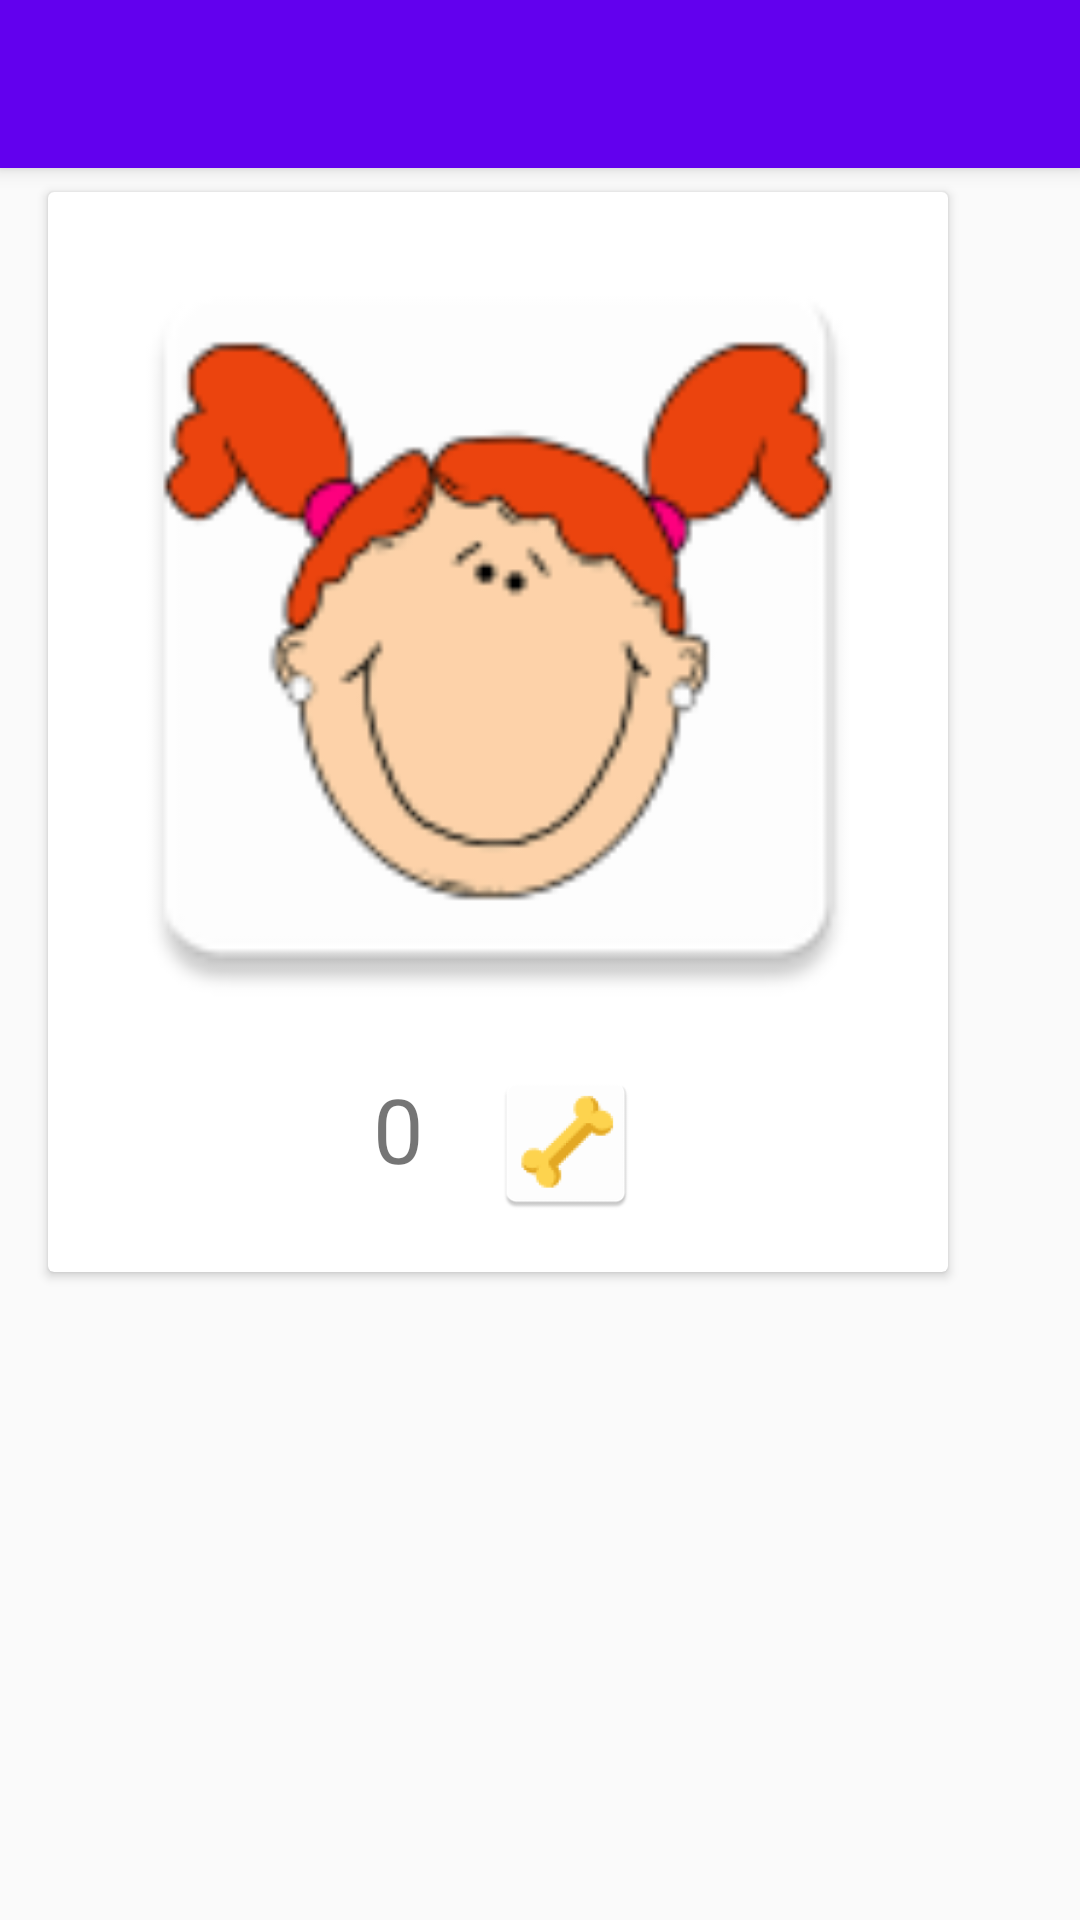

Locate icon controls on the screen. Image size 1080×1920, boxes as (x1, y1, x2, y2).
hueso: (507, 1093, 626, 1206)
